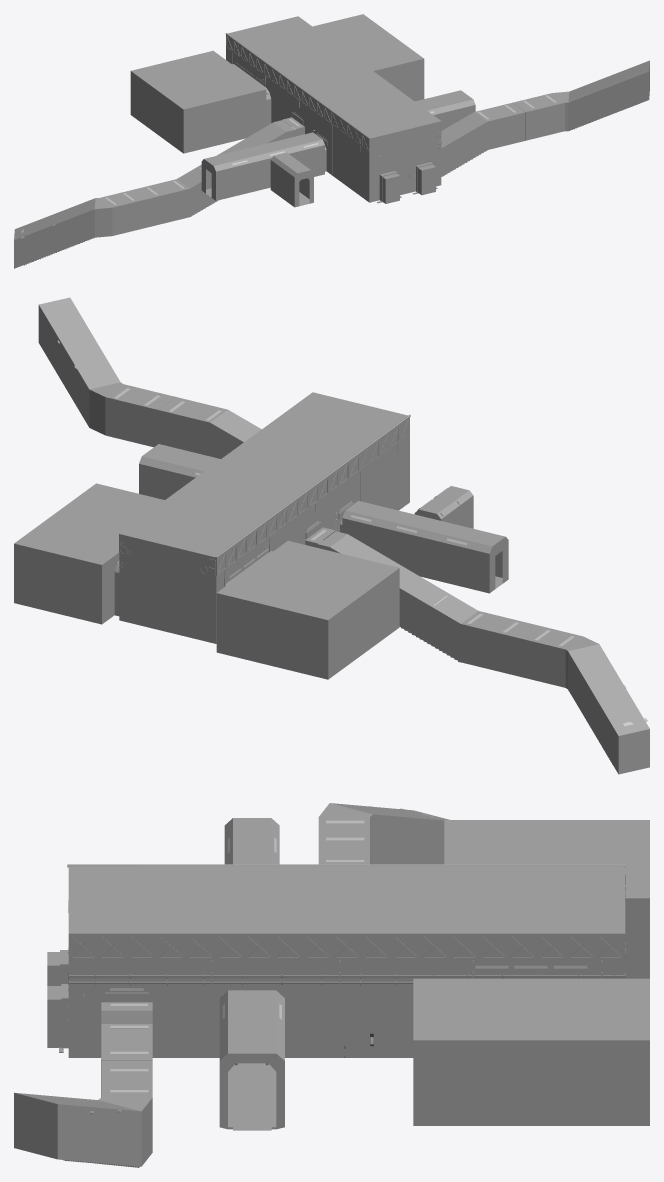
The model's file is HallWay.fbx.
3 views of the same model, one above another, from view 1: azimuth 30°, elevation 25°; view 2: azimuth 150°, elevation 25°; view 3: azimuth 270°, elevation 25° (orthographic). The views are drawn at different scales.
Visible parts, largest first — view 1: polySurface431, polySurface365, polySurface29, pCylinder1; view 2: polySurface431, polySurface365, polySurface29; view 3: polySurface431, polySurface29, polySurface365, pCube46, pCylinder1, pCube47.
Part boxes in pixels (x1=…): polySurface431: x1=130, y1=14, x2=475, y2=207; polySurface365: x1=14, y1=120, x2=295, y2=268; polySurface29: x1=441, y1=60, x2=649, y2=176; pCylinder1: x1=225, y1=33, x2=370, y2=139; polySurface431: x1=14, y1=392, x2=508, y2=679; polySurface365: x1=318, y1=531, x2=649, y2=774; polySurface29: x1=38, y1=297, x2=261, y2=458; polySurface431: x1=47, y1=818, x2=649, y2=1129; polySurface29: x1=14, y1=1002, x2=152, y2=1166; polySurface365: x1=318, y1=803, x2=449, y2=864; pCube46: x1=68, y1=972, x2=625, y2=978; pCylinder1: x1=67, y1=864, x2=625, y2=867; pCube47: x1=68, y1=978, x2=413, y2=985.
Size of the model in its own units: 183 by 45.8 by 95.17.
